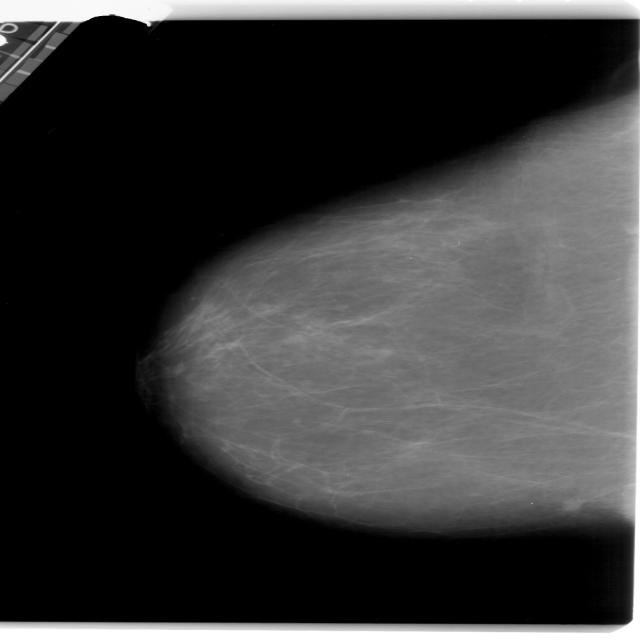normal: (138, 89, 640, 525)
